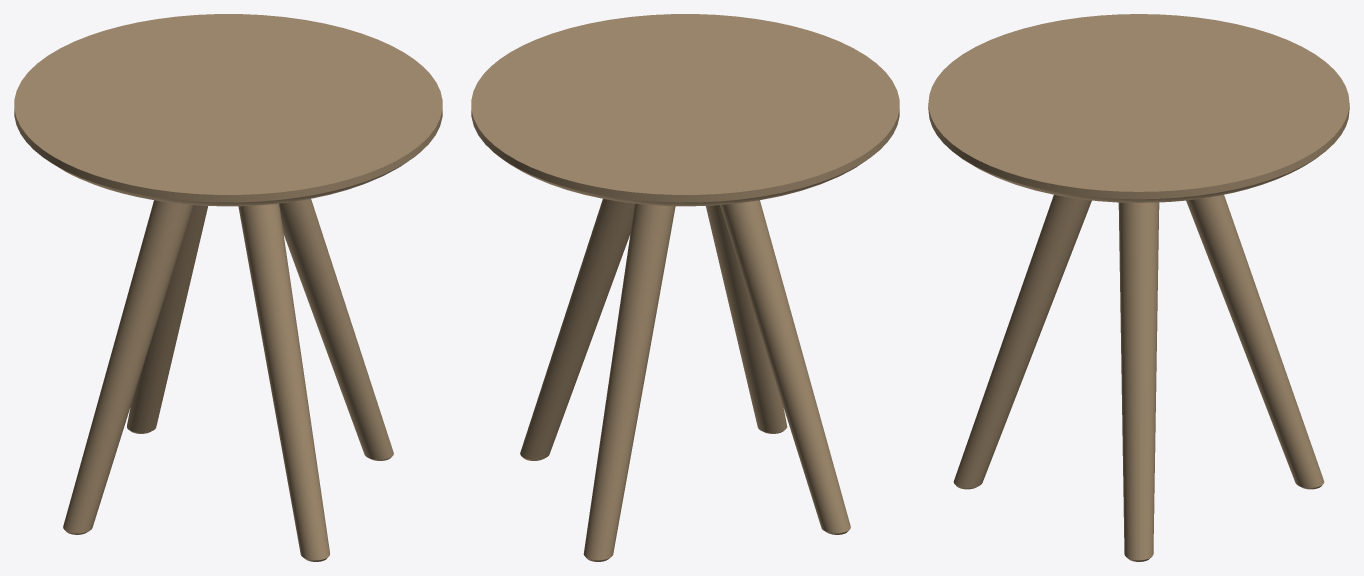
Rendered from 357_サイドテーブル.glb.
3 views of the same model, side by side, from view 1: azimuth 30°, elevation 25°; view 2: azimuth 150°, elevation 25°; view 3: azimuth 270°, elevation 25° (orthographic).
Visible parts, largest first — view 1: Body1; view 2: Body1; view 3: Body1.
Boxes of the visible parts, x1,y1,x2,y2 form: Body1: (14,14,442,561); Body1: (471,14,899,561); Body1: (928,14,1349,561).
Size of the model in its own units: 0.43 by 0.43 by 0.43.
